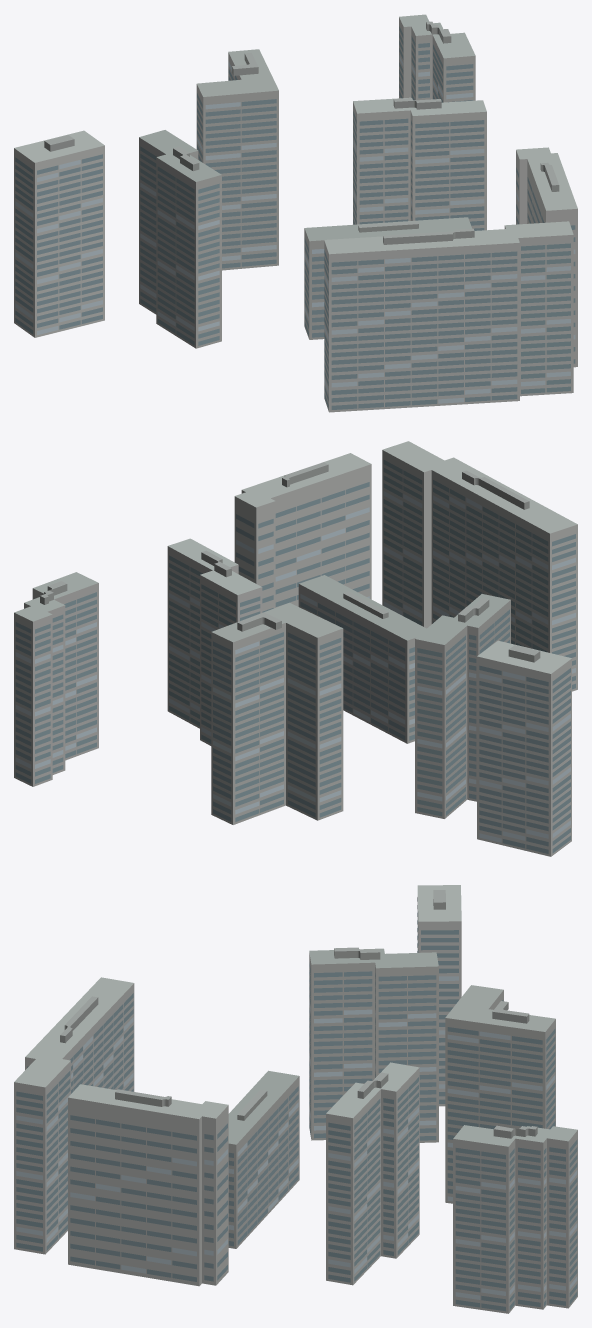
Rendered from apt-a14003105.glb.
3 renders of one model, top to bottom at view 1: azimuth 30°, elevation 25°; view 2: azimuth 150°, elevation 25°; view 3: azimuth 270°, elevation 25°, orthographic. The views are drawn at different scales.
Parts seen in each view (by area): view 1: apt-a14003105; view 2: apt-a14003105; view 3: apt-a14003105.
Boxes of the visible parts, x1=… form: apt-a14003105: x1=14, y1=14, x2=577, y2=412; apt-a14003105: x1=14, y1=441, x2=577, y2=856; apt-a14003105: x1=14, y1=885, x2=577, y2=1313.
Size of the model in its own units: 177 by 65 by 173.
